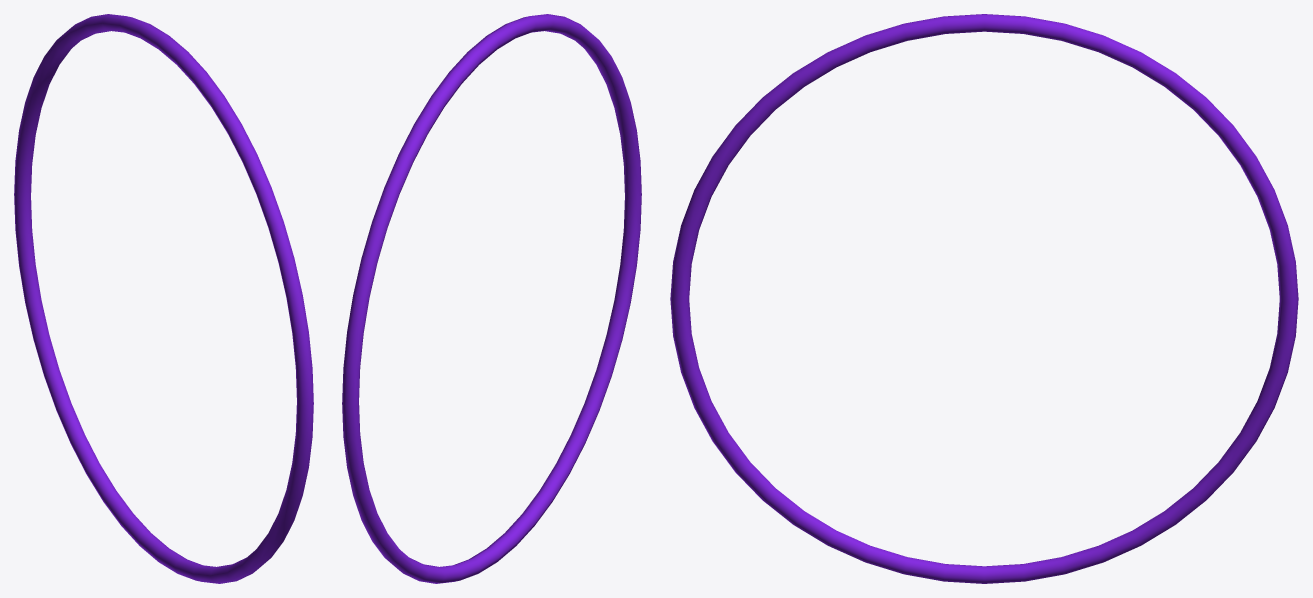
Rendered from SM_StormRing.obj.
3 views of the same model, side by side, from view 1: azimuth 30°, elevation 25°; view 2: azimuth 150°, elevation 25°; view 3: azimuth 270°, elevation 25° (orthographic). The views are drawn at different scales.
Parts seen in each view (by area): view 1: SM_StormRing; view 2: SM_StormRing; view 3: SM_StormRing.
Boxes of the visible parts, left/top/right/bottom form: SM_StormRing: left=14, top=14, right=313, bottom=583; SM_StormRing: left=342, top=14, right=641, bottom=583; SM_StormRing: left=670, top=14, right=1298, bottom=583.
Bounding box in the file's own units: 6 × 200 × 200.
